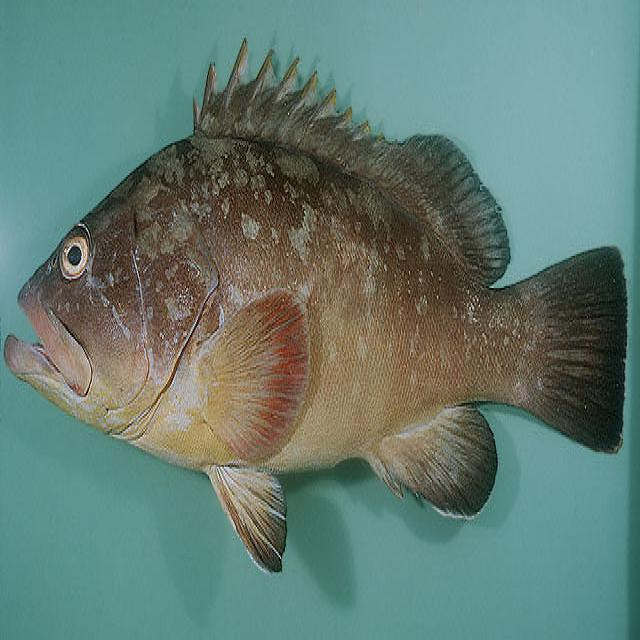ikan: (3, 34, 628, 576)
